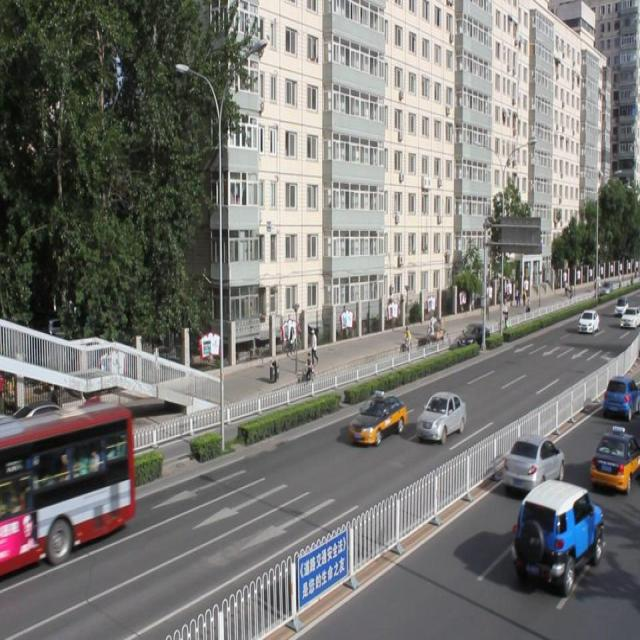car: (514, 477, 602, 587), (502, 431, 563, 493), (588, 426, 640, 489), (349, 391, 406, 445), (416, 389, 464, 442), (601, 373, 640, 419), (457, 321, 488, 352)
van: (1, 407, 132, 571)
